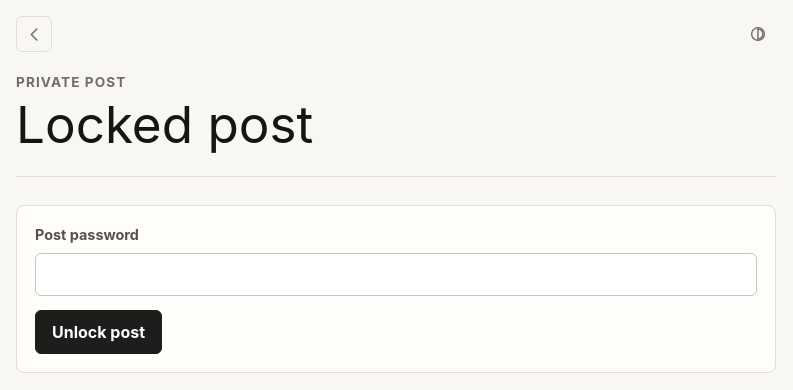
Test: PostDetail › prompts for a password and unlocks locked post details
Expected: the heading "Locked post" is shown, x1=16 y1=93 x2=313 y2=155
Type "open-sesame" into the password field labelled "Post password" at (396, 275), box x1=35 y1=253 x2=757 y2=296
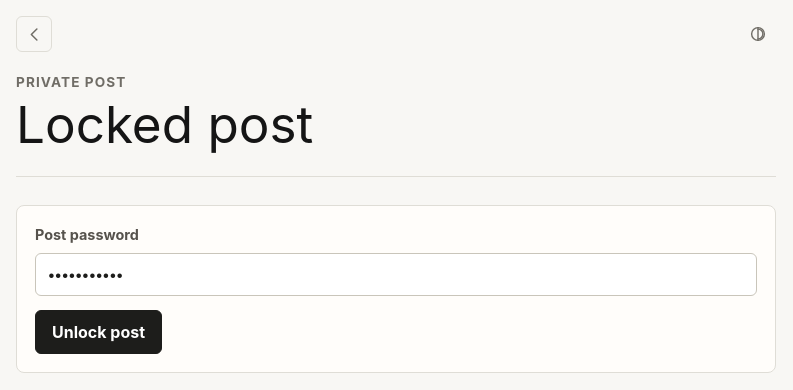
Click the button "Unlock post" at (98, 332), box x1=35 y1=310 x2=162 y2=354
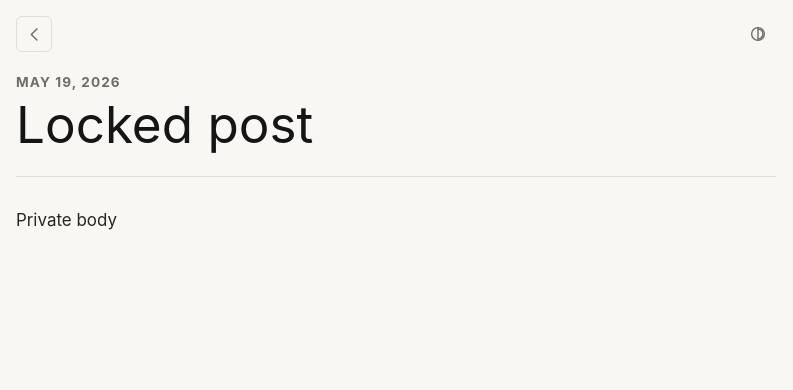
Now the text "Private body" is shown, box x1=16 y1=210 x2=117 y2=230
